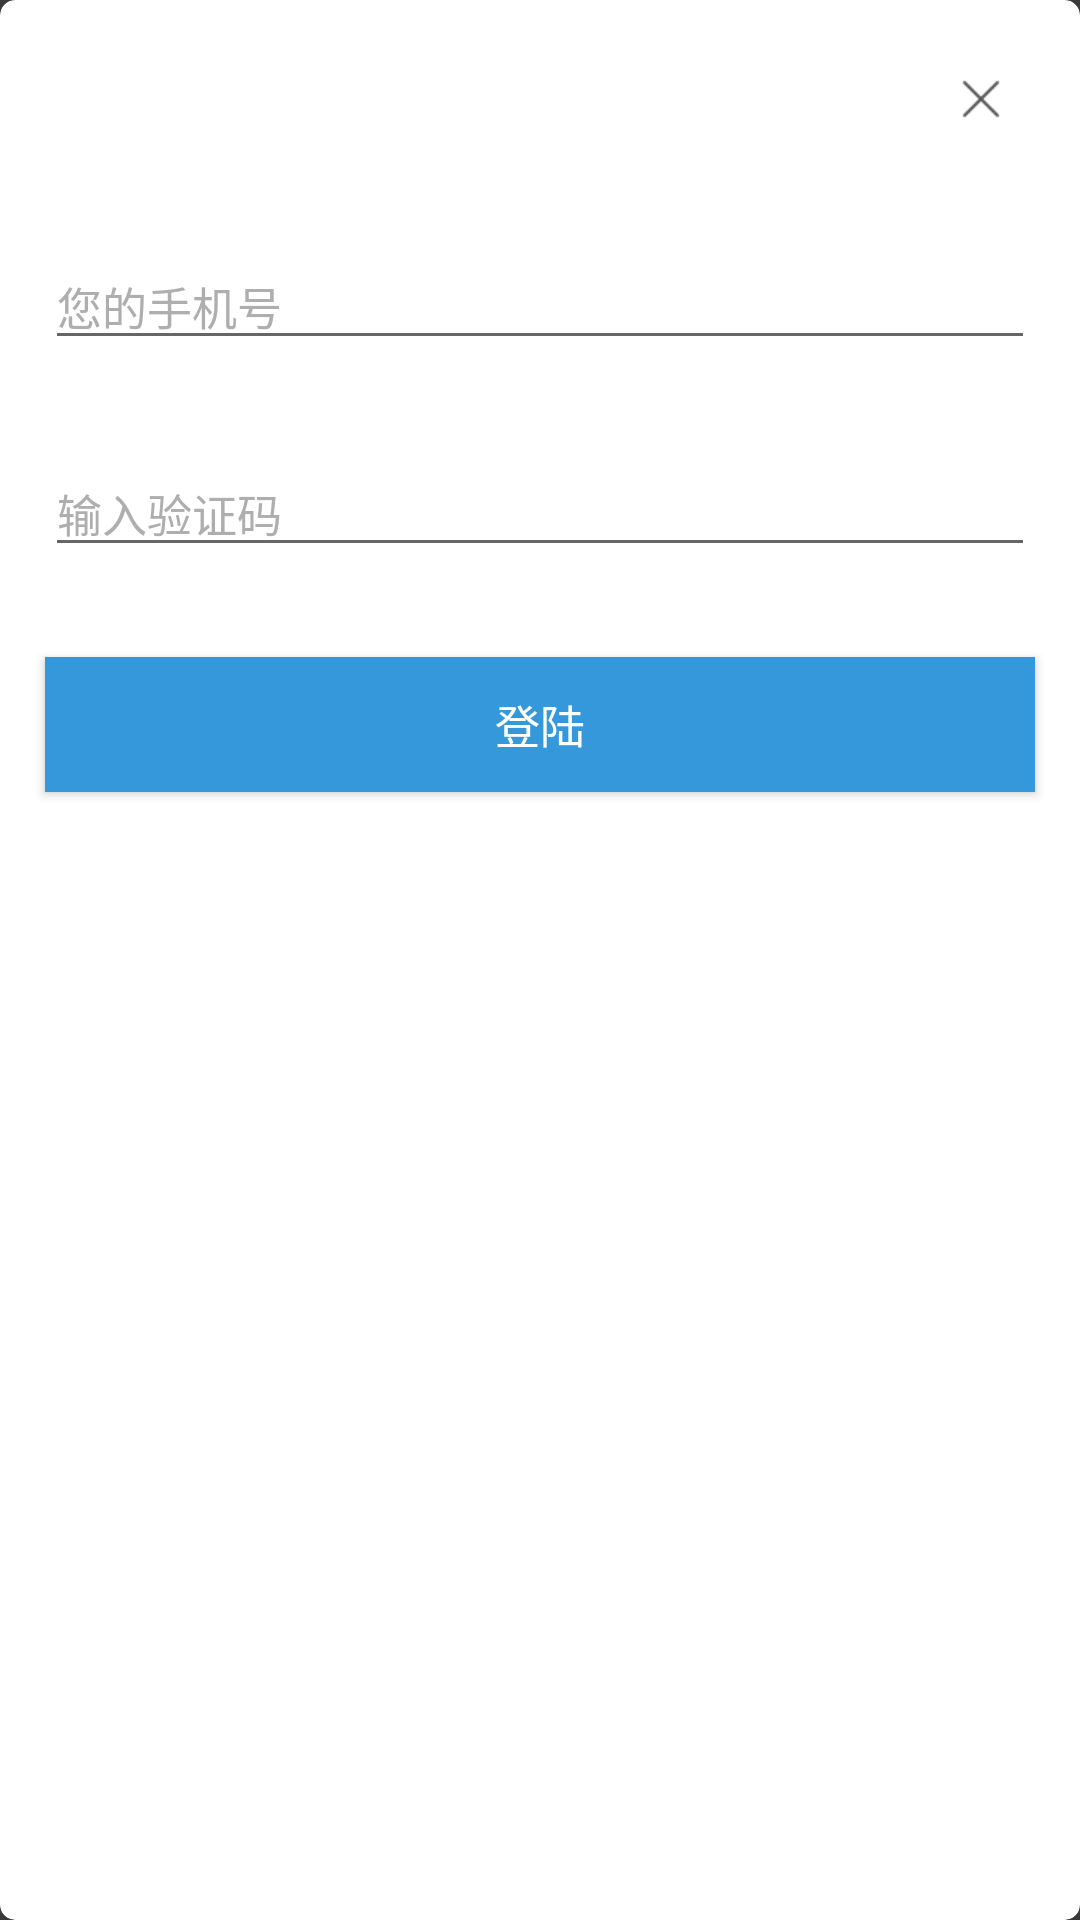

Where icons sit on this 1080 × 1920 app screen, as box(x1, y1, x2, y2):
close: box(963, 81, 999, 117)
